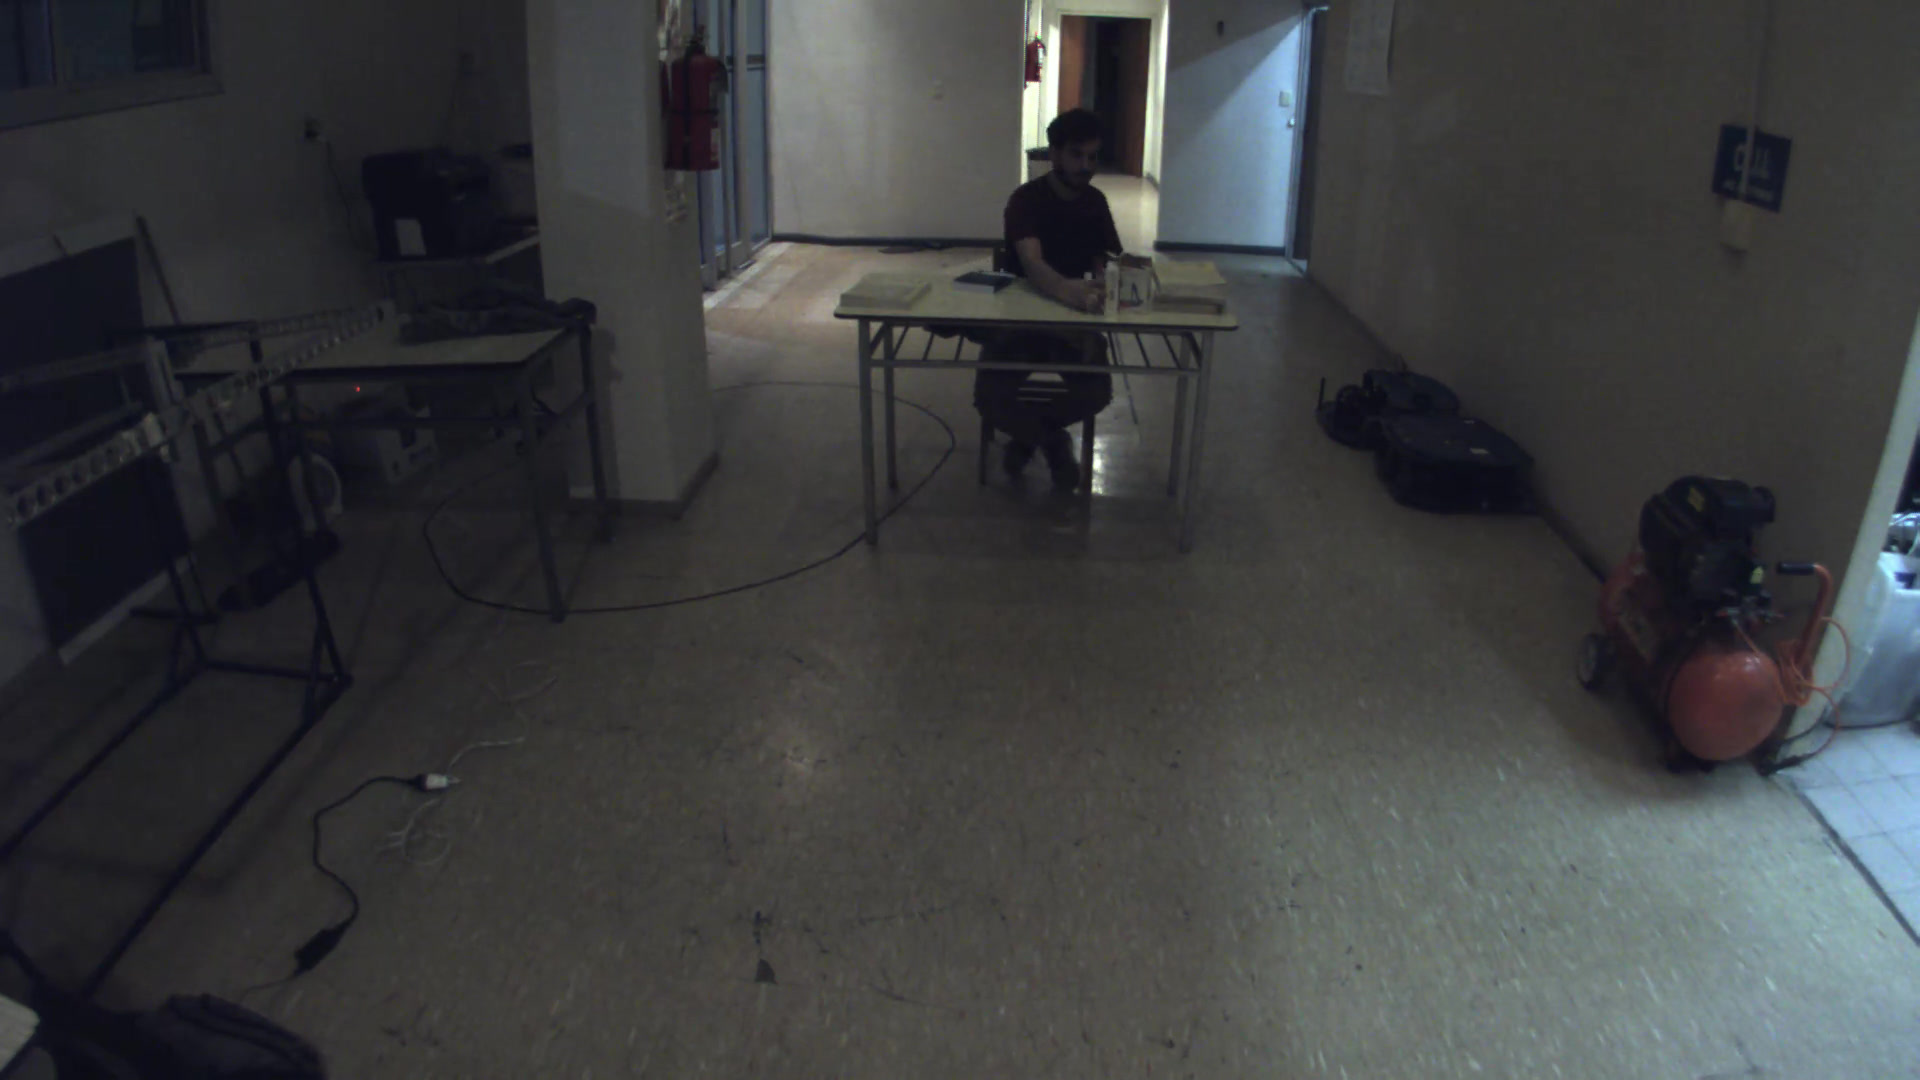hand: (1062, 272, 1106, 315)
